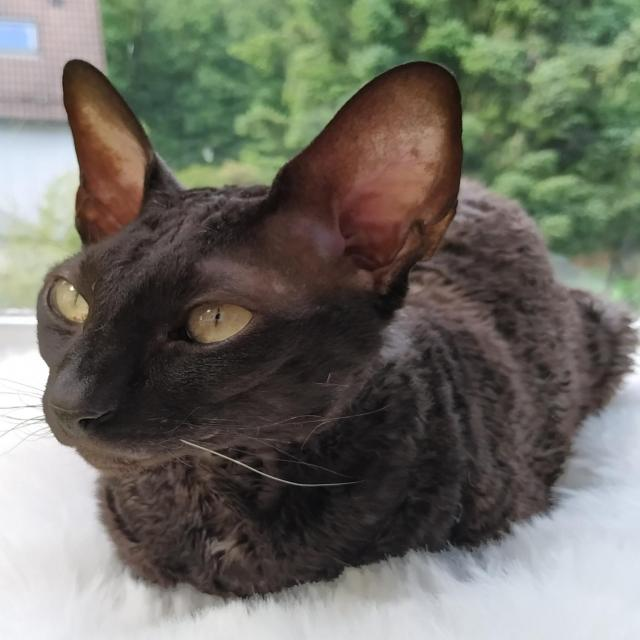Cornish Rex: (25, 46, 640, 604)
